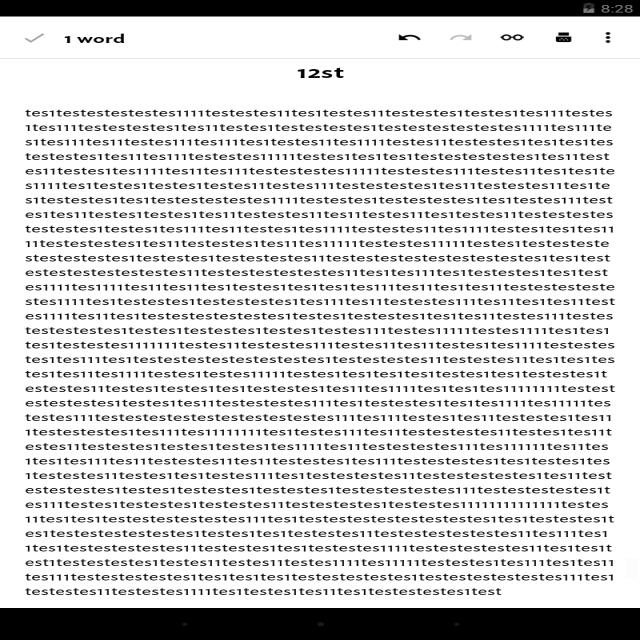ImageButton: (491, 28, 537, 50), (387, 30, 430, 46), (543, 25, 577, 45), (18, 27, 52, 45), (447, 27, 478, 45), (598, 31, 615, 45)
